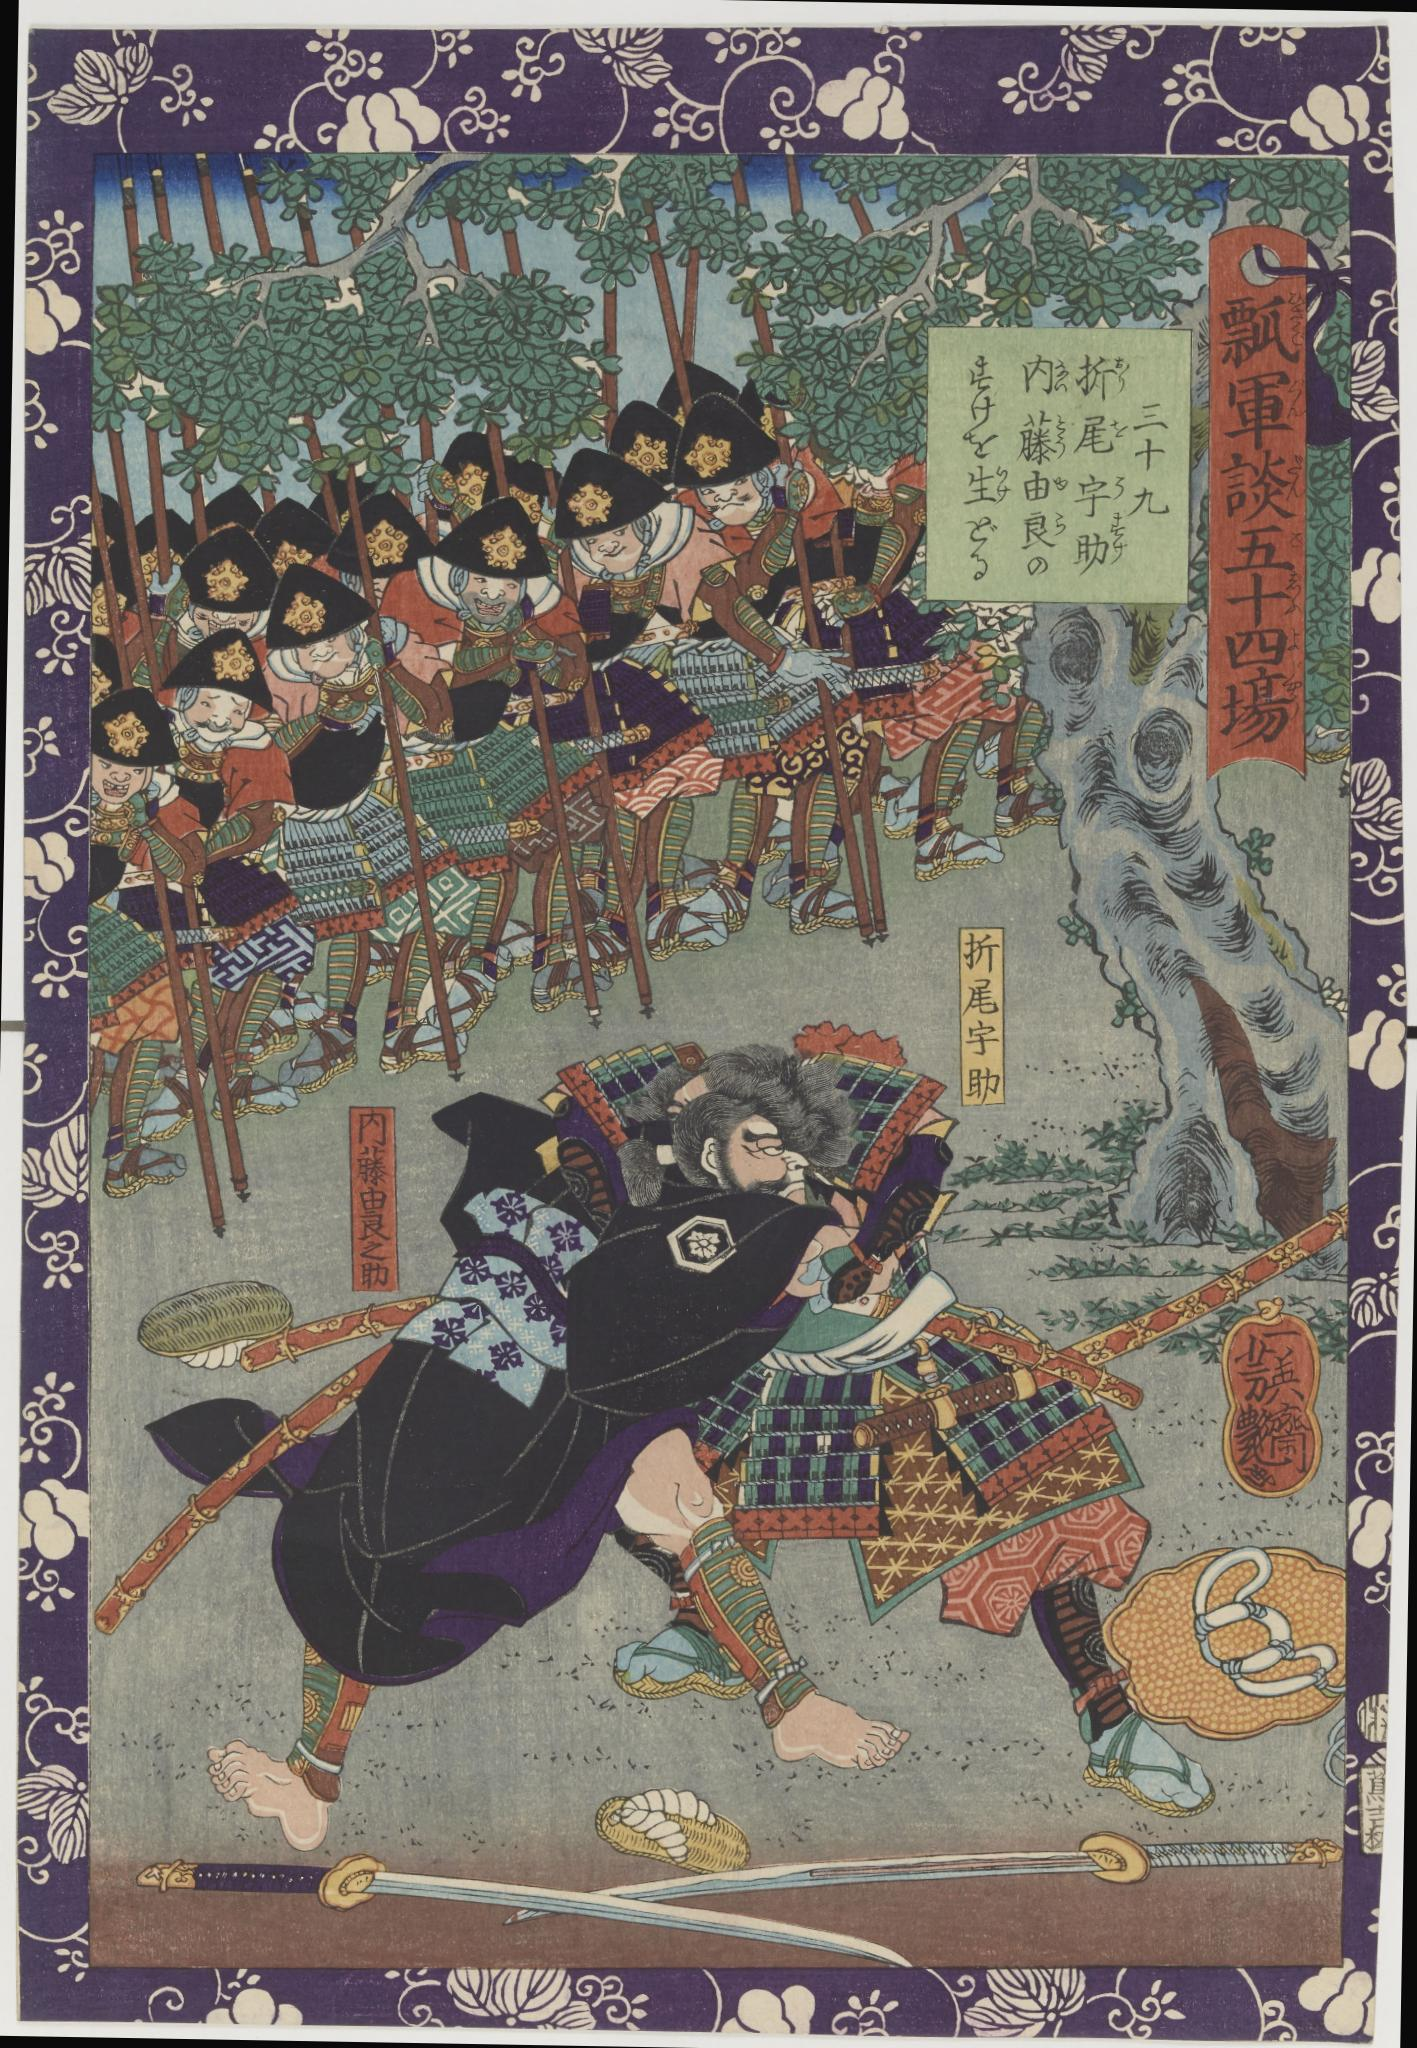MainZone-Character: (1215, 286, 1308, 373), (1216, 370, 1311, 456), (1216, 669, 1302, 755), (1215, 448, 1307, 523), (1229, 570, 1308, 626), (1219, 526, 1310, 574), (1075, 512, 1132, 577), (1221, 626, 1307, 665), (1016, 408, 1072, 464), (957, 458, 1017, 507), (1075, 352, 1131, 400), (1019, 352, 1073, 398), (1075, 409, 1128, 456), (1075, 467, 1126, 514), (1019, 509, 1070, 552), (1020, 468, 1072, 506)
MainZone-Ruby: (1285, 289, 1308, 349), (1283, 375, 1308, 422), (1107, 514, 1129, 563), (1282, 674, 1300, 725), (991, 462, 1013, 504), (1051, 412, 1069, 462), (1285, 453, 1302, 501), (1283, 571, 1300, 616), (1111, 355, 1129, 395), (1055, 359, 1073, 397), (1109, 473, 1126, 504), (1109, 417, 1129, 440), (1051, 512, 1069, 538), (1286, 531, 1305, 554), (1283, 629, 1302, 652), (1051, 468, 1069, 493)
